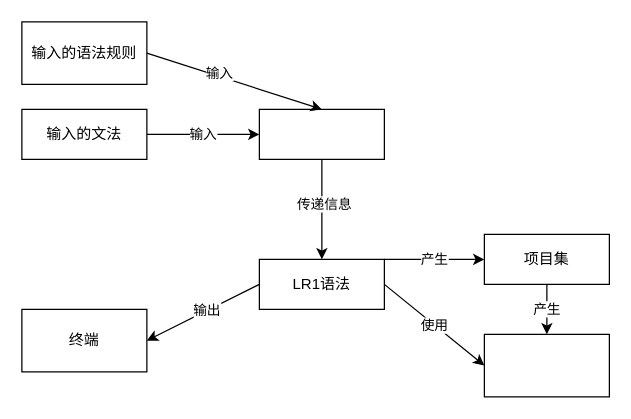
This 631x419 diagram has some shape labels left out. Each missing label, with the centre of its shape:
"语法" goes at point (321, 133).
"项目集簇" goes at point (546, 365).
